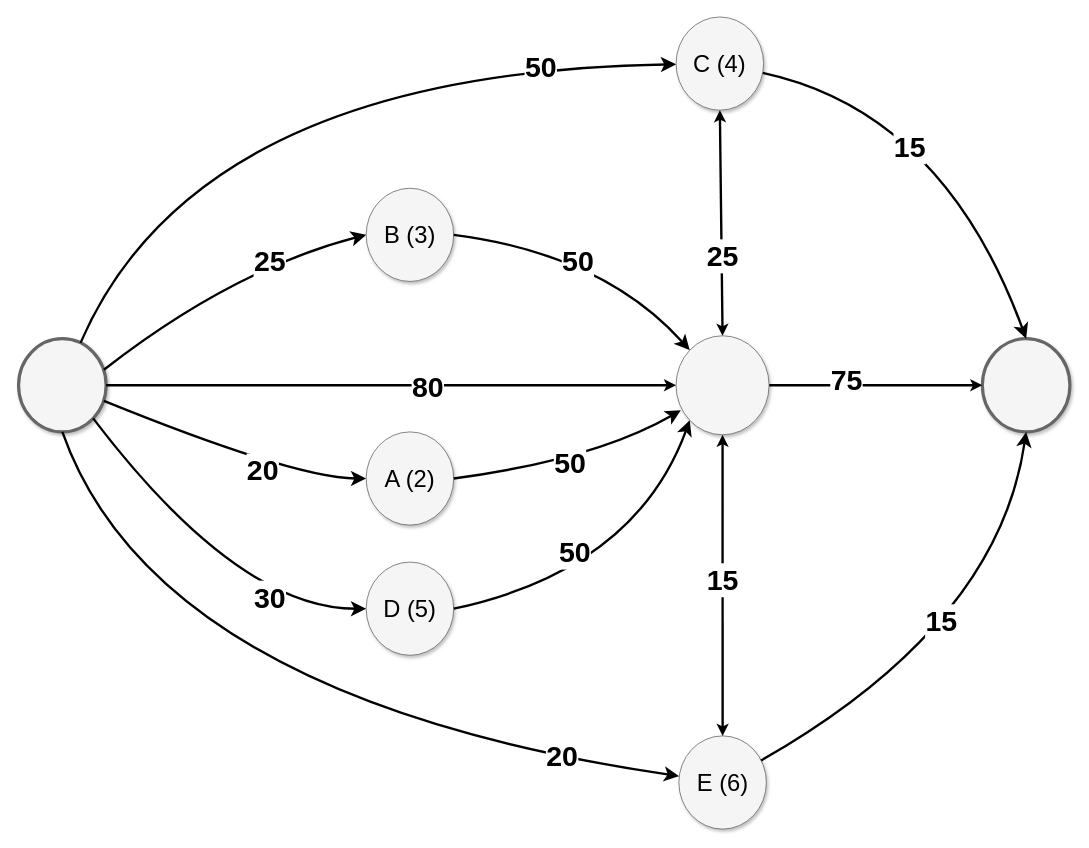
Some shapes in this 1089 by 848 pixel diagram are drawn without their labels. Each missing label, with the centre of its shape:
F (7): point (723, 386)
s (1): point (62, 386)
t (8): point (1026, 386)
